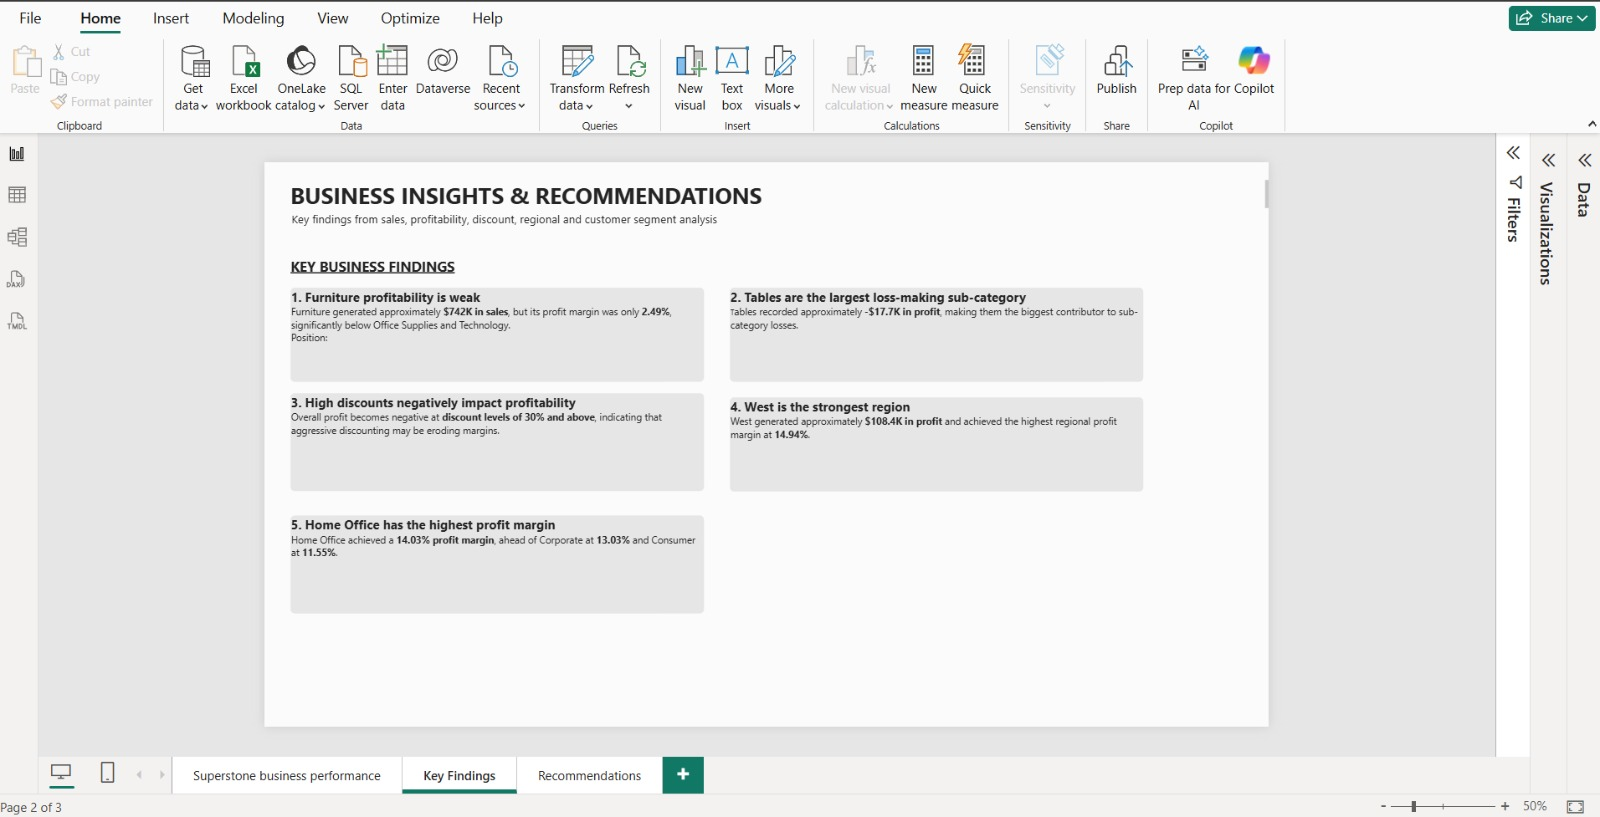

Layout of this report page (visuals, bound fields, positions):
{"tool":"powerbi","page":{"name":"Key Findings ","canvas":[1920,1080],"ordinal":1},"visuals":[{"type":"textbox","box":[10,0,280,280],"z":0},{"type":"textbox","box":[49.4,35,1871,55.6],"z":1000},{"type":"textbox","box":[10.3,94.7,911.8,45.3],"z":2000},{"type":"textbox","box":[49.4,179.1,358.1,39.1],"z":3000},{"type":"textbox","box":[50,240,790,180],"z":4000},{"type":"textbox","box":[890,240,790,180],"z":5000},{"type":"textbox","box":[49.4,442.5,790.4,187.3],"z":6000},{"type":"textbox","box":[890,450,790,180],"z":7000},{"type":"textbox","box":[49,676.5,790,187],"z":8000}]}

Visuals, with their boxes on the page's 1920x1080 design canvas (x1, y1, x2, y2). These are canvas units, not pixel positions in the 1600x817 screenshot, which may show the page scaled, cropped or inside an application window:
textbox: Rect(10, 0, 290, 280)
textbox: Rect(49, 35, 1920, 91)
textbox: Rect(10, 95, 922, 140)
textbox: Rect(49, 179, 408, 218)
textbox: Rect(50, 240, 840, 420)
textbox: Rect(890, 240, 1680, 420)
textbox: Rect(49, 442, 840, 630)
textbox: Rect(890, 450, 1680, 630)
textbox: Rect(49, 676, 839, 864)
